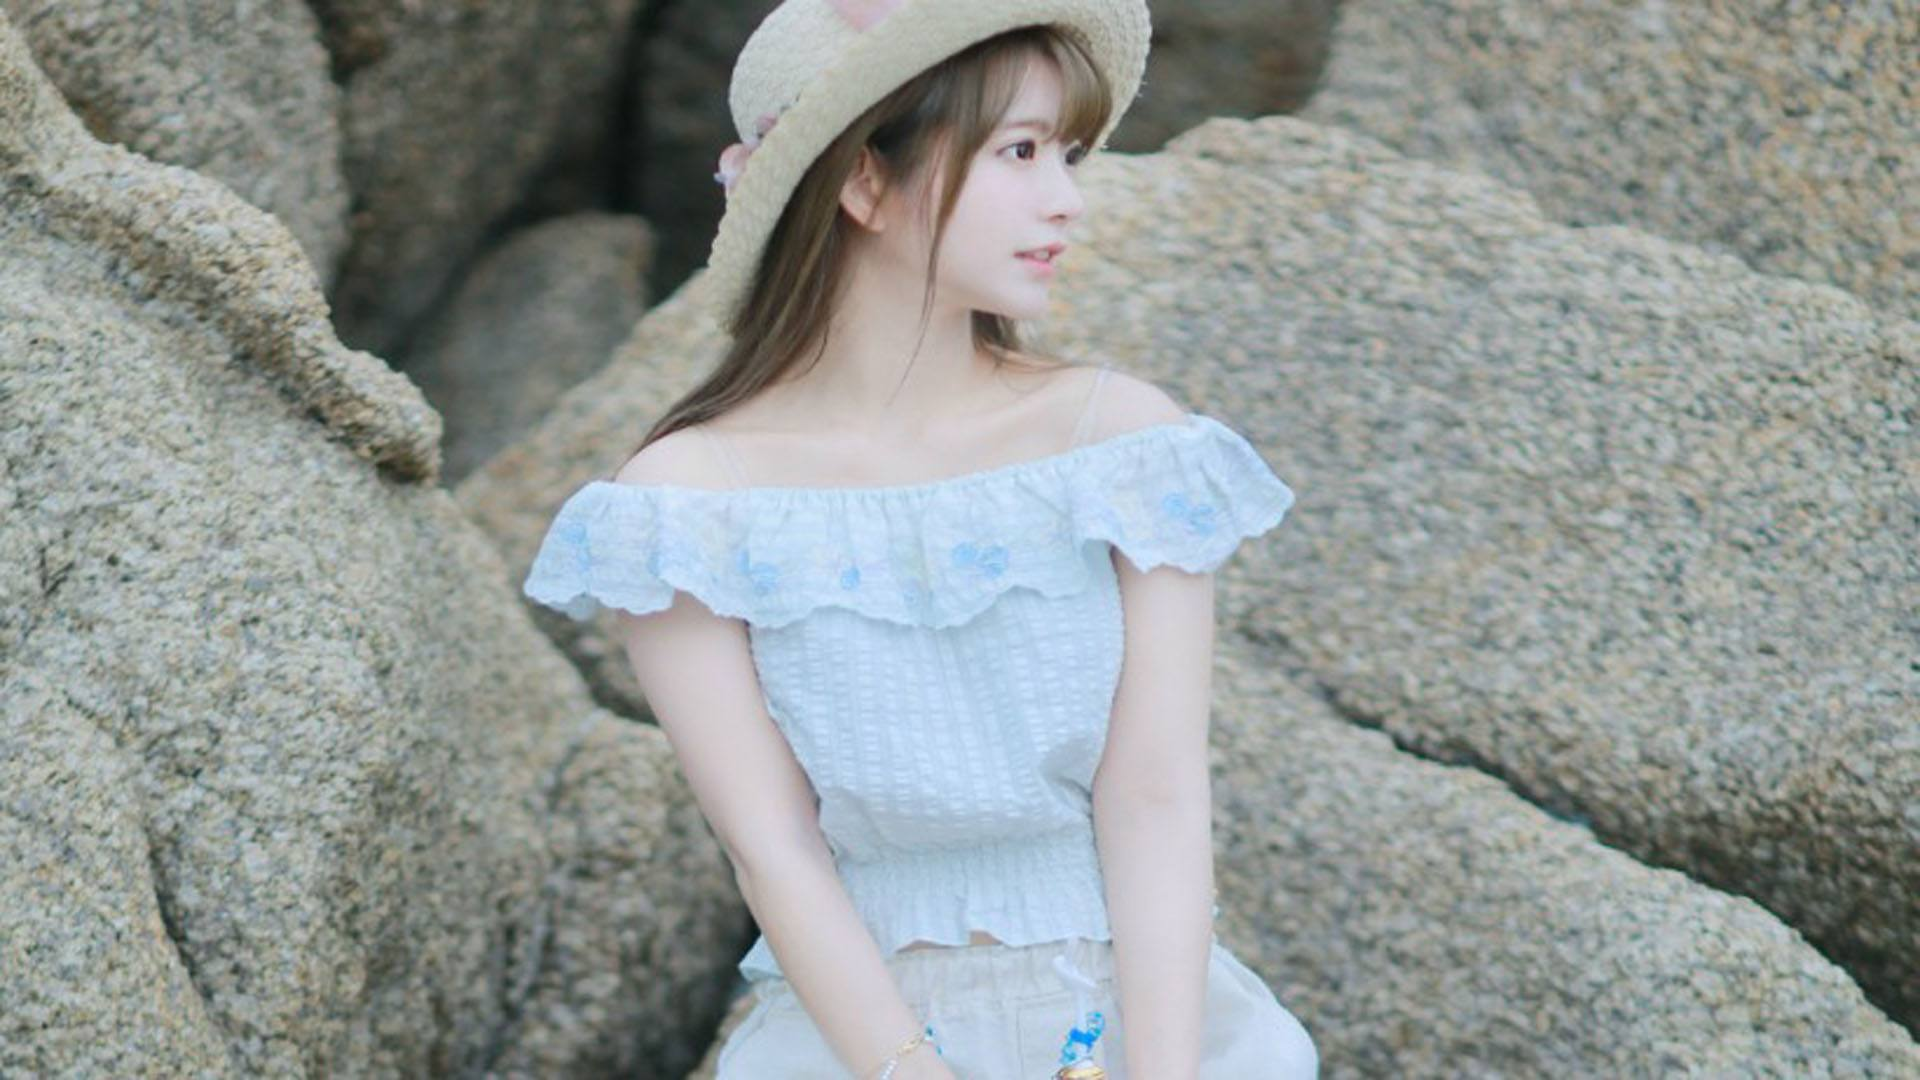person: (543, 48, 1268, 1014)
